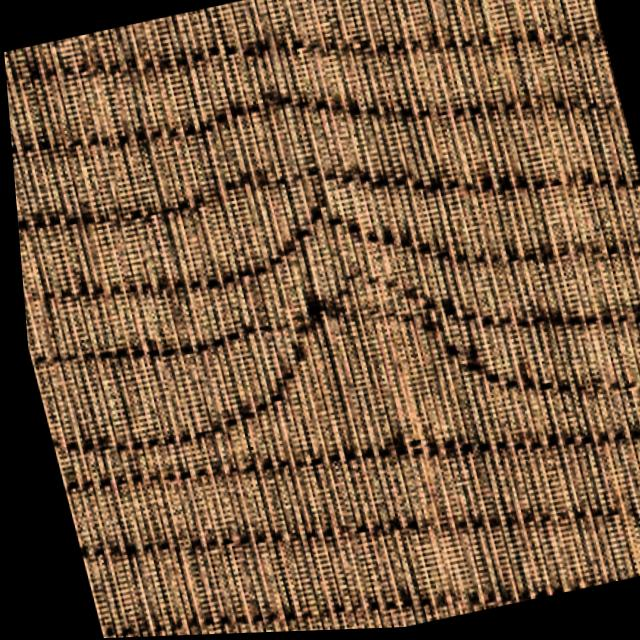Stitch: (169, 247, 536, 455)
